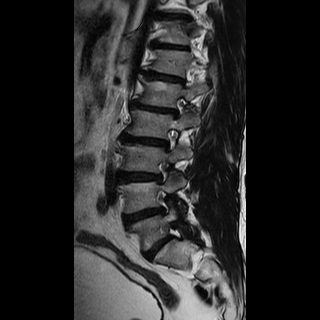RFS0: (155, 124, 183, 157), (163, 92, 191, 123), (149, 188, 177, 217), (149, 156, 173, 189)
